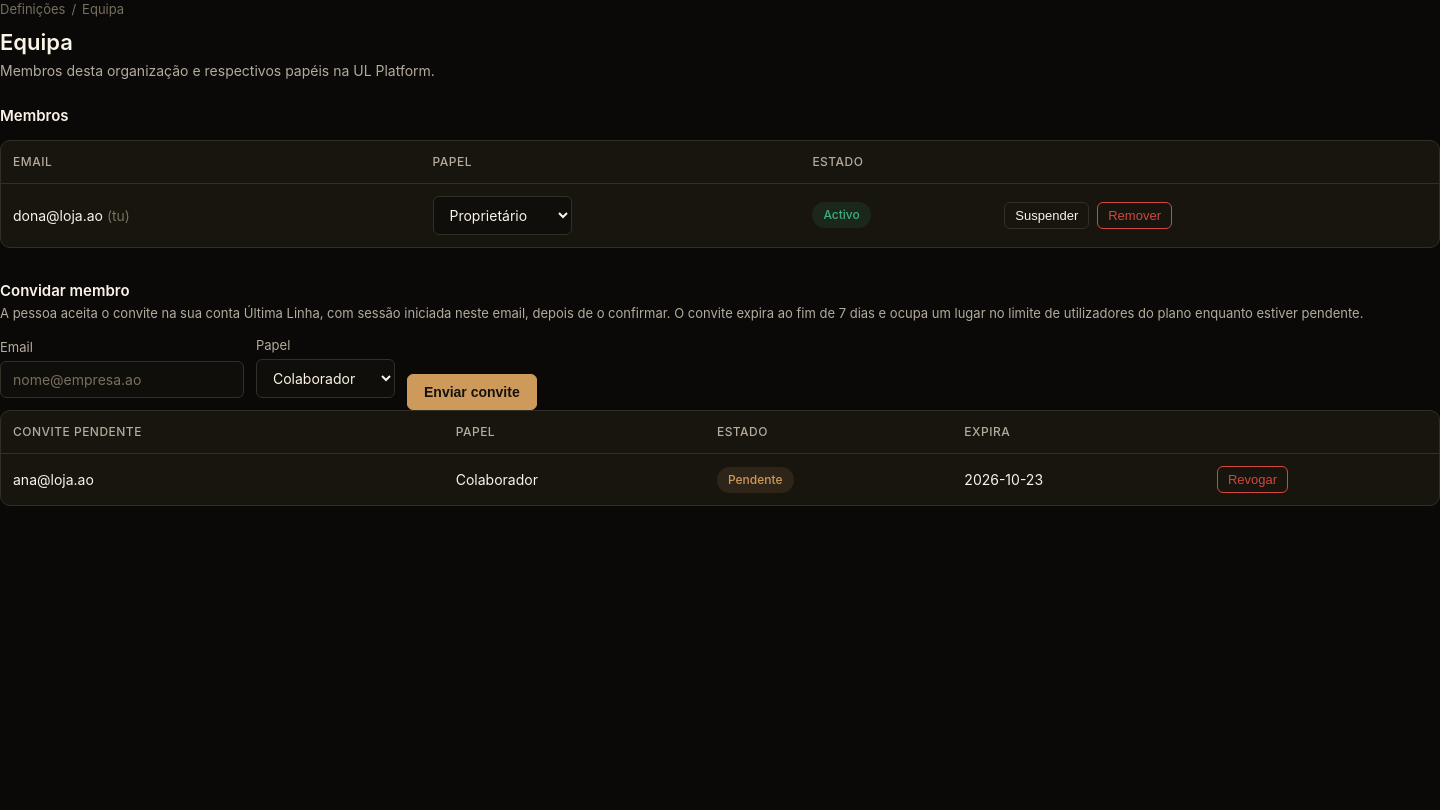
Scenario: TeamPage — invitations › revokes a pending invitation after confirmation
The image size is (1440, 810).
Check: the text "ana@loja.ao" is shown, box top-left (13, 471), bottom-right (94, 488)
Click the button with aria-label "Revogar o convite de ana@loja.ao".
click(1253, 480)  # box top-left (1217, 466), bottom-right (1288, 493)
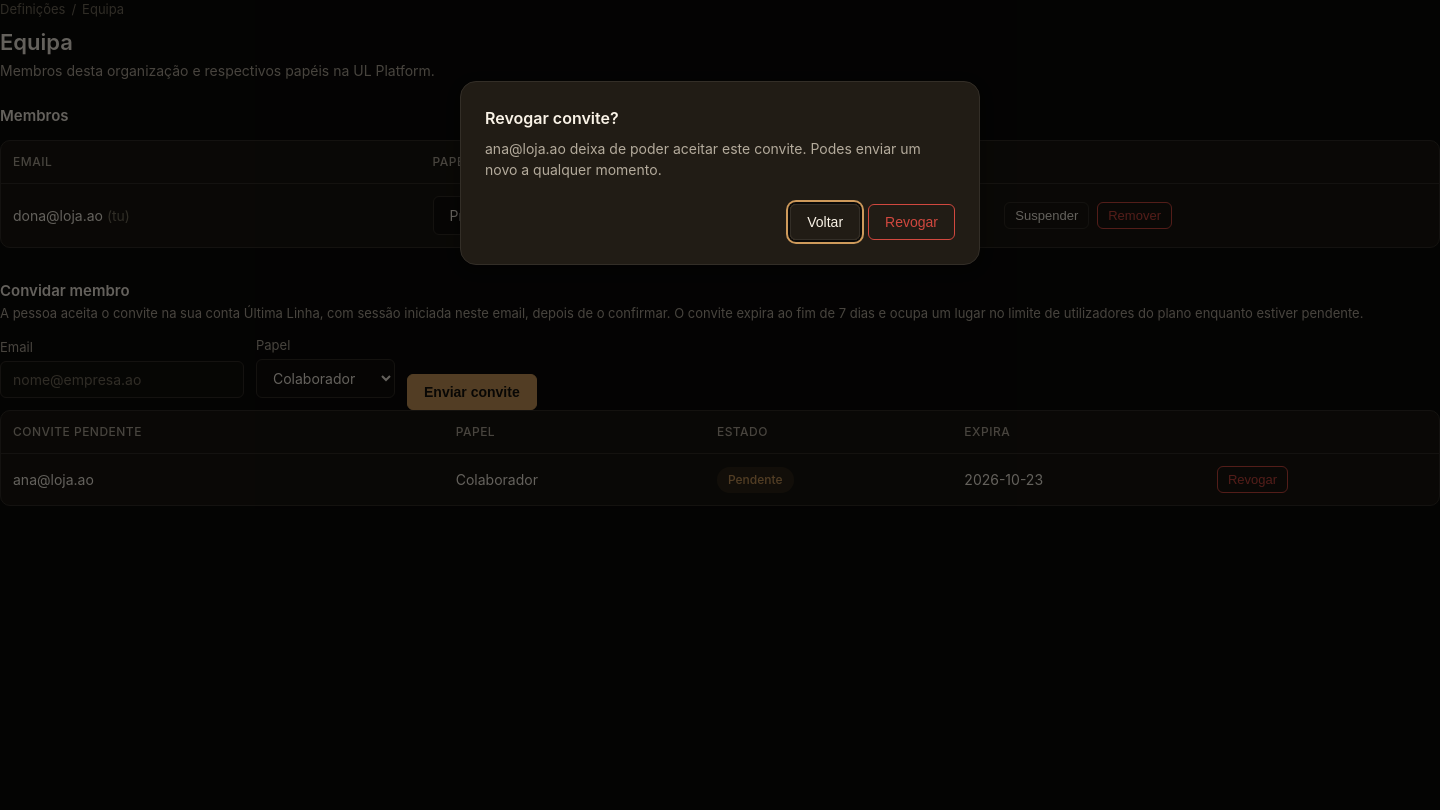
Click the button "Revogar".
click(912, 222)  # box top-left (868, 204), bottom-right (955, 240)
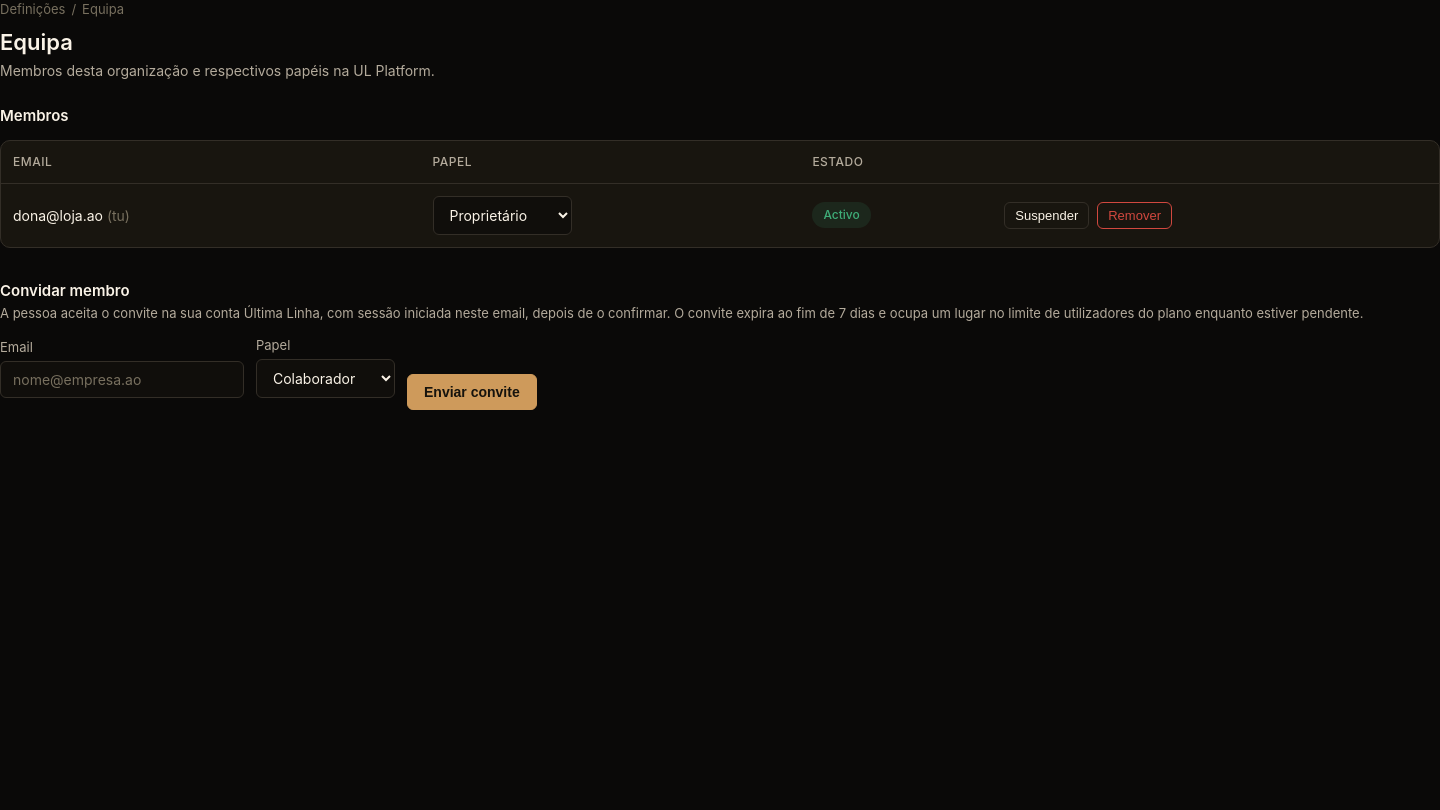
Check: the text "ana@loja.ao" is gone
